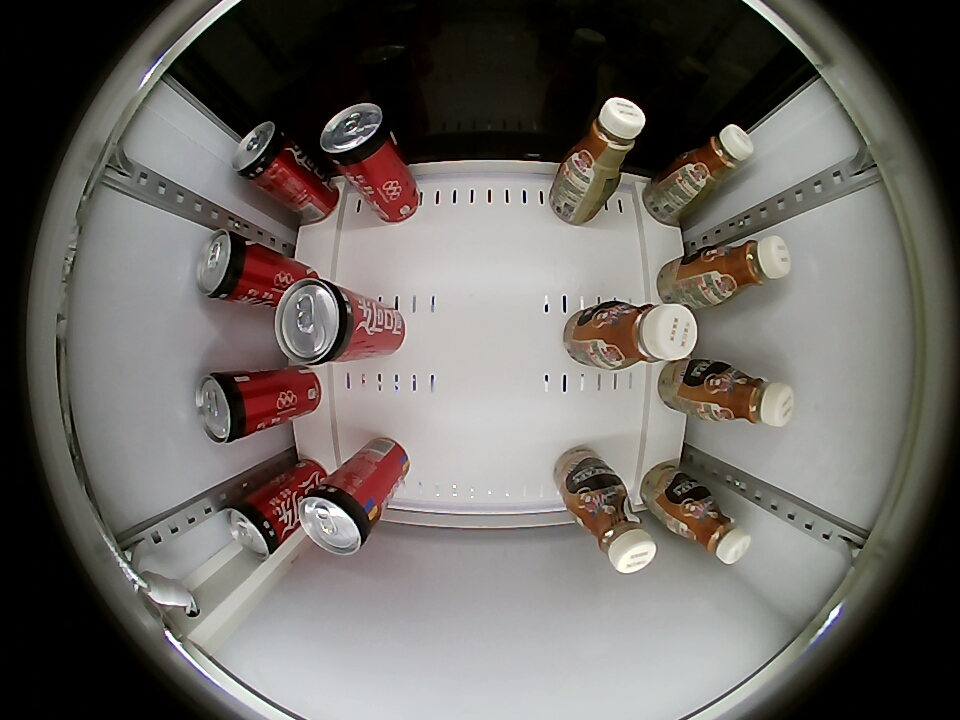kafei: (575, 478, 657, 574), (562, 97, 646, 186), (595, 299, 698, 371), (669, 485, 751, 564), (697, 236, 791, 304), (701, 361, 795, 427), (674, 124, 754, 195)
lingdukele: (273, 277, 362, 366), (298, 480, 379, 555), (319, 104, 396, 170), (195, 228, 261, 304), (196, 369, 258, 445), (232, 121, 298, 187), (226, 490, 289, 558)
